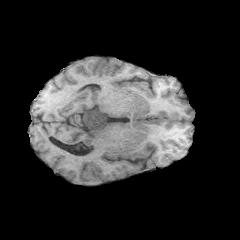glioma: (79, 109, 113, 143)
